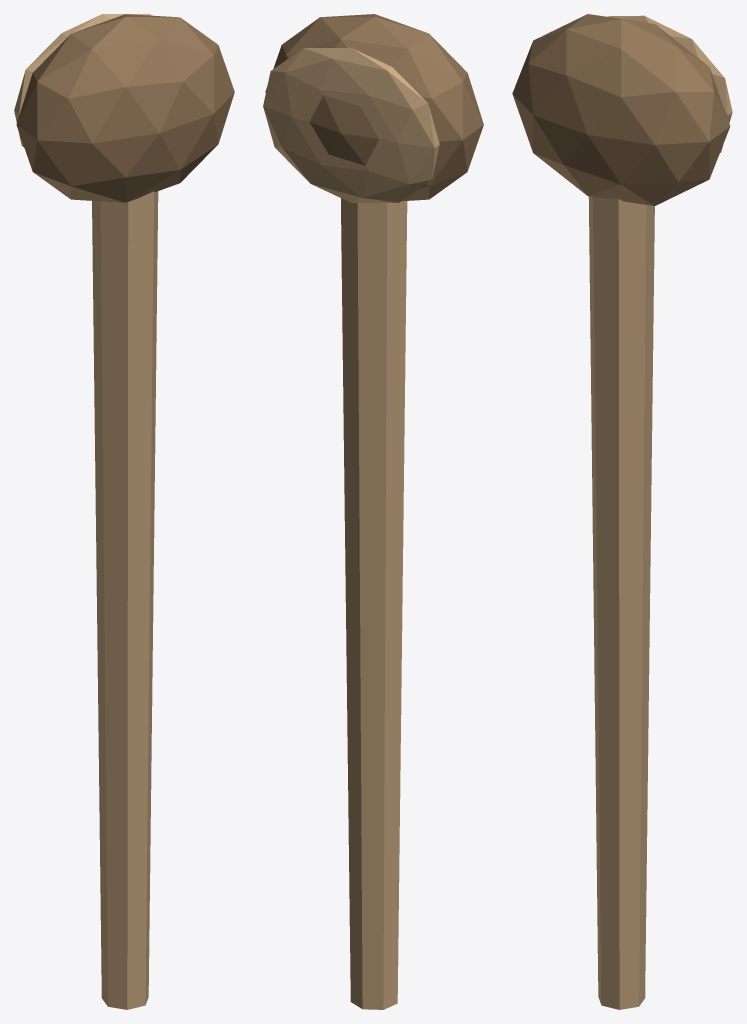
The model's file is grip_ladle.glb.
3 renders of one model, left to right at view 1: azimuth 30°, elevation 25°; view 2: azimuth 150°, elevation 25°; view 3: azimuth 330°, elevation 25°, orthographic.
Parts seen in each view (by area): view 1: s2_grip_ladle; view 2: s2_grip_ladle; view 3: s2_grip_ladle.
Part boxes in pixels (x1,y1,x2,y2): s2_grip_ladle: [14, 14, 234, 1009]; s2_grip_ladle: [263, 14, 483, 1009]; s2_grip_ladle: [512, 14, 732, 1009].
Size of the model in its own units: 0.1229 by 0.5844 by 0.0731.
